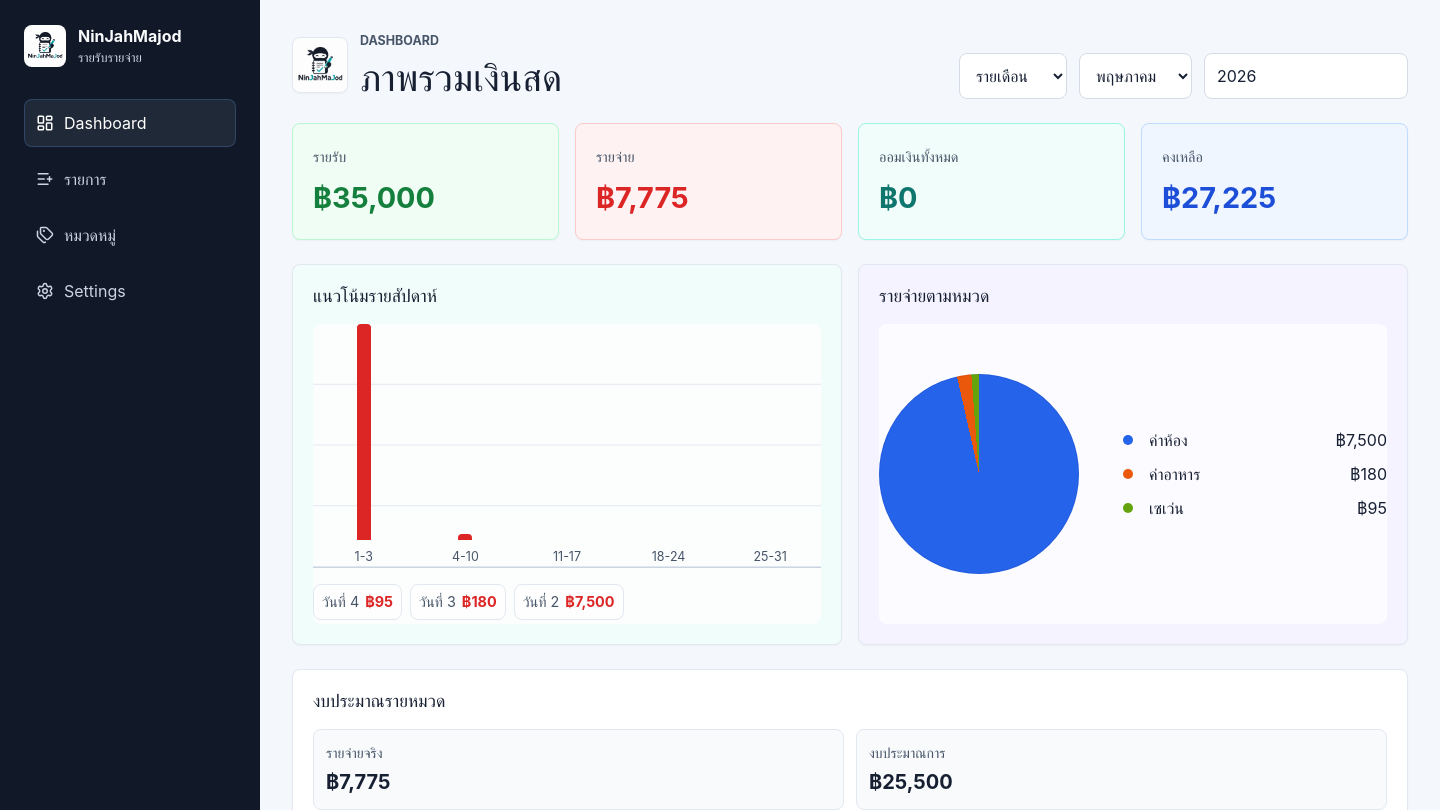
App smoke flow › requires confirmation before deleting a transaction
Click the button "รายการ": x=130, y=179 [24, 155, 236, 203]
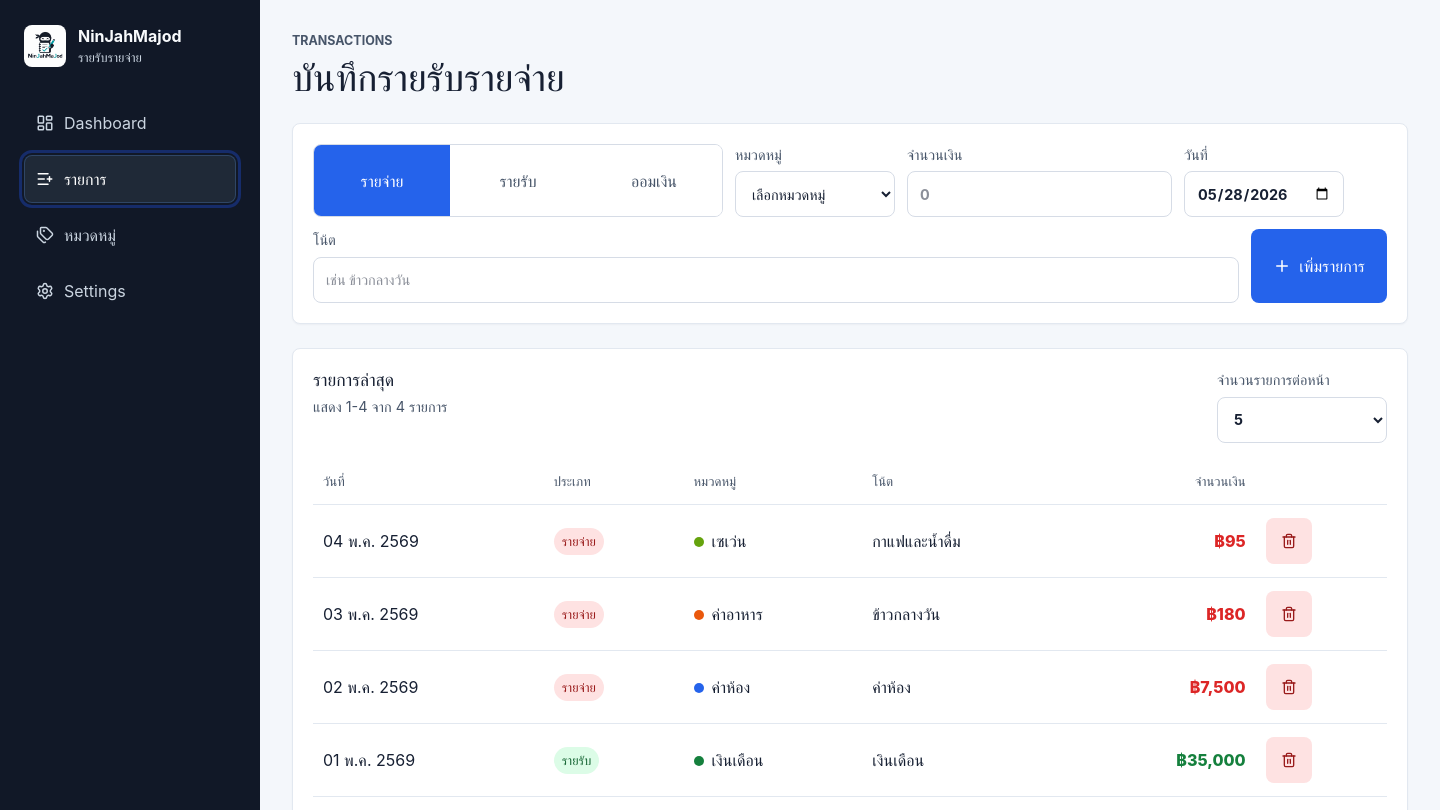
Now the text "กาแฟและน้ำดื่ม" is shown, box [862, 505, 1078, 578]
Click the button named "ลบ กาแฟและน้ำดื่ม": x=1289, y=541 [1266, 518, 1312, 564]
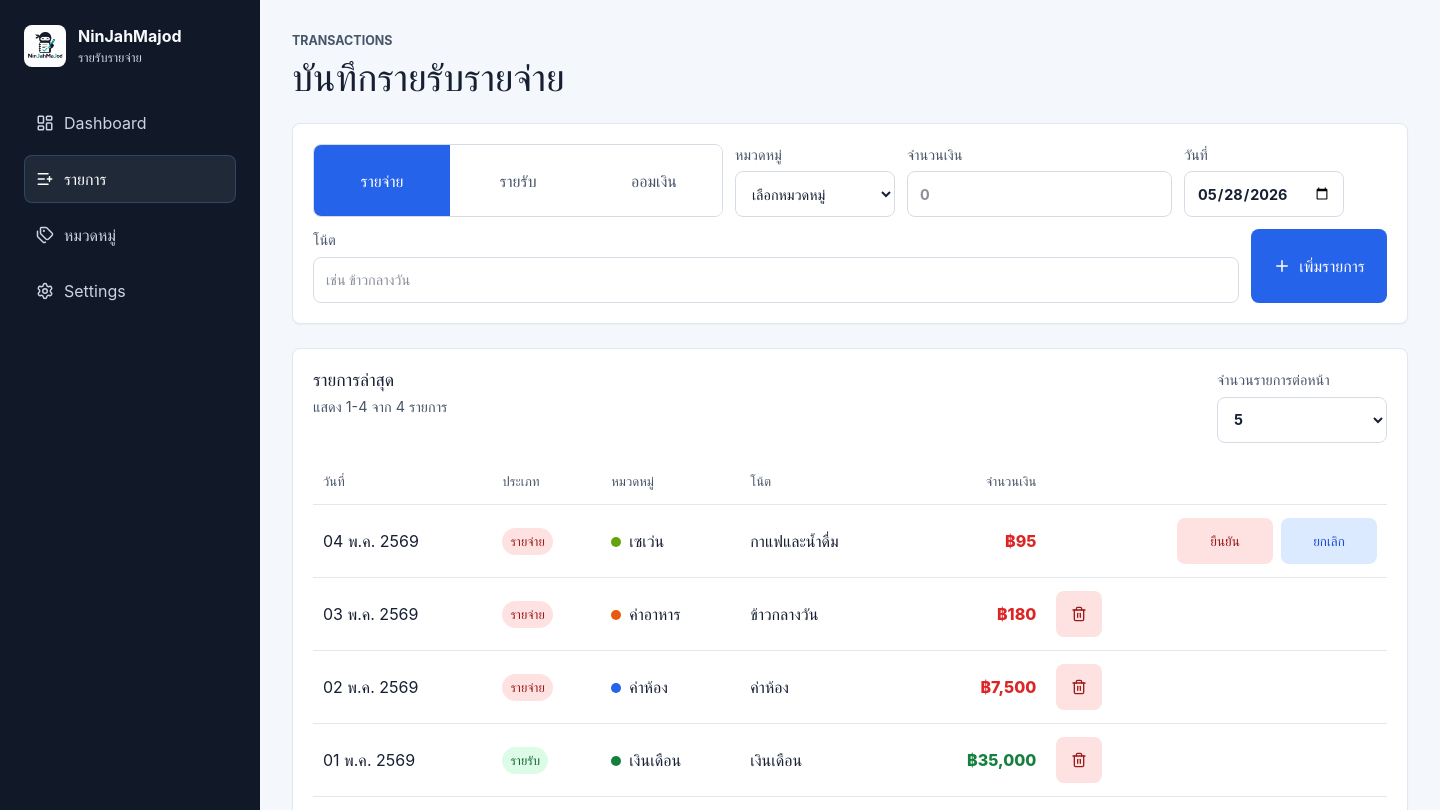
Now the text "กาแฟและน้ำดื่ม" is shown, box [740, 505, 908, 578]
Click the button "ยืนยัน": x=1225, y=541 [1177, 518, 1273, 564]
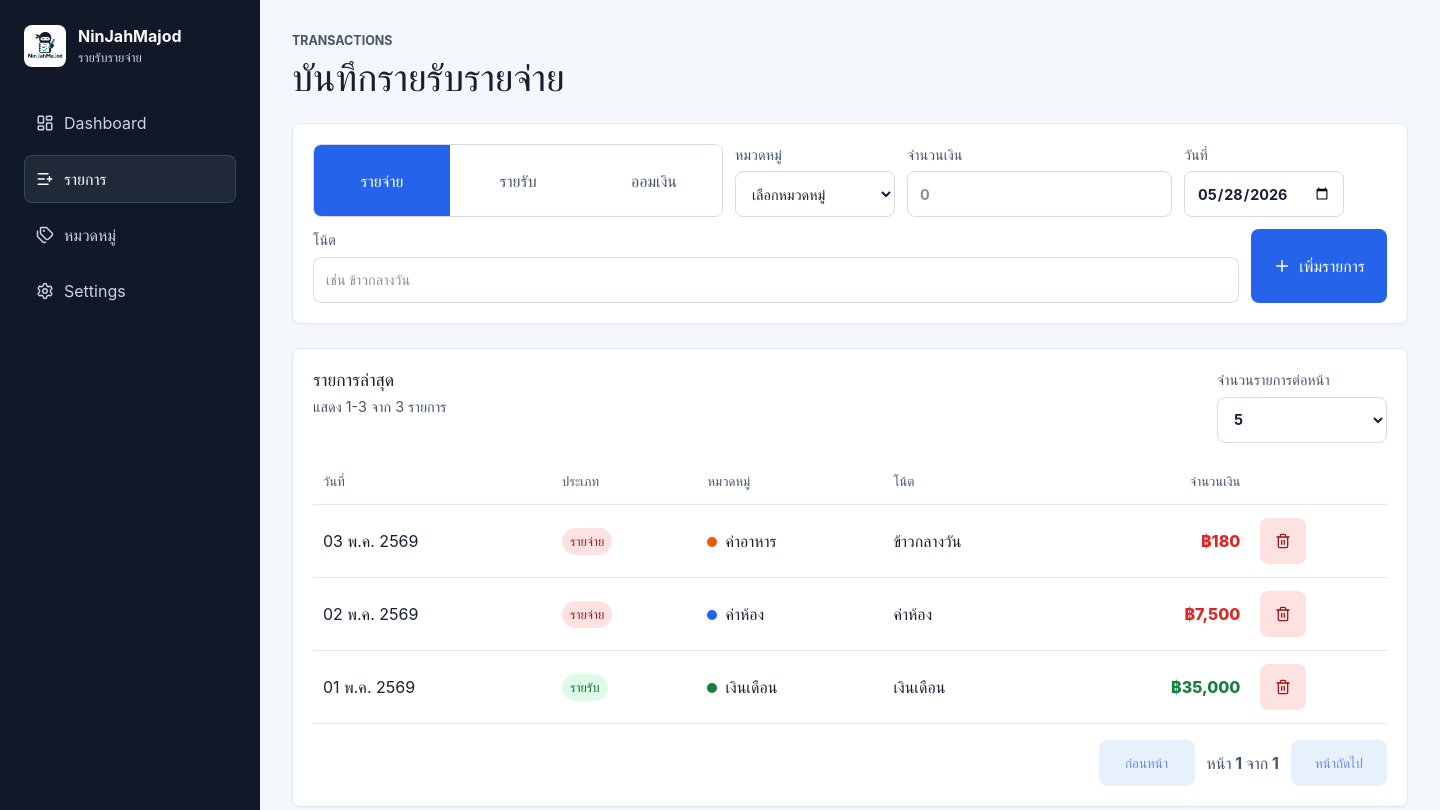
Now the text "กาแฟและน้ำดื่ม" is gone
